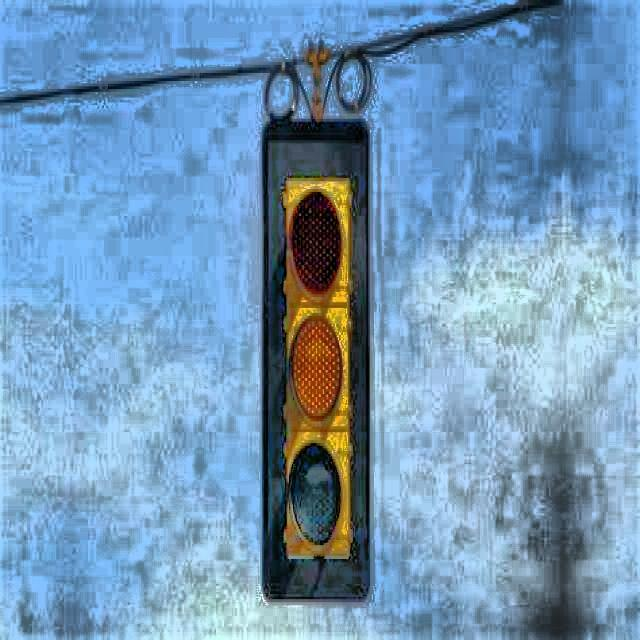yellow: (281, 174, 355, 570)
